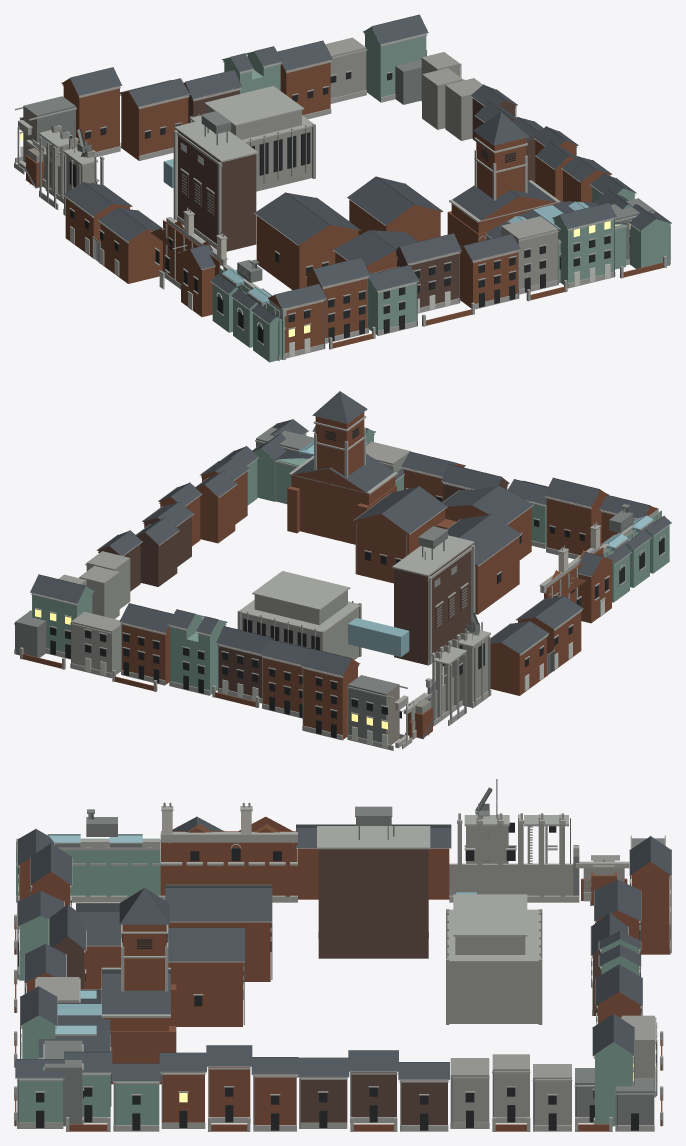
Rendered from source-demolition.glb.
3 renders of one model, top to bottom at view 1: azimuth 30°, elevation 25°; view 2: azimuth 150°, elevation 25°; view 3: azimuth 270°, elevation 25°, orthographic. The views are drawn at different scales.
Visible parts, largest first — view 1: source_demolition_retained; view 2: source_demolition_retained; view 3: source_demolition_retained.
Part boxes in pixels (x1,y1,x2,y2): source_demolition_retained: [14, 14, 671, 362]; source_demolition_retained: [14, 391, 671, 750]; source_demolition_retained: [14, 779, 671, 1131].
Bounding box in the file's own units: 87.71 × 28.2 × 95.67.
